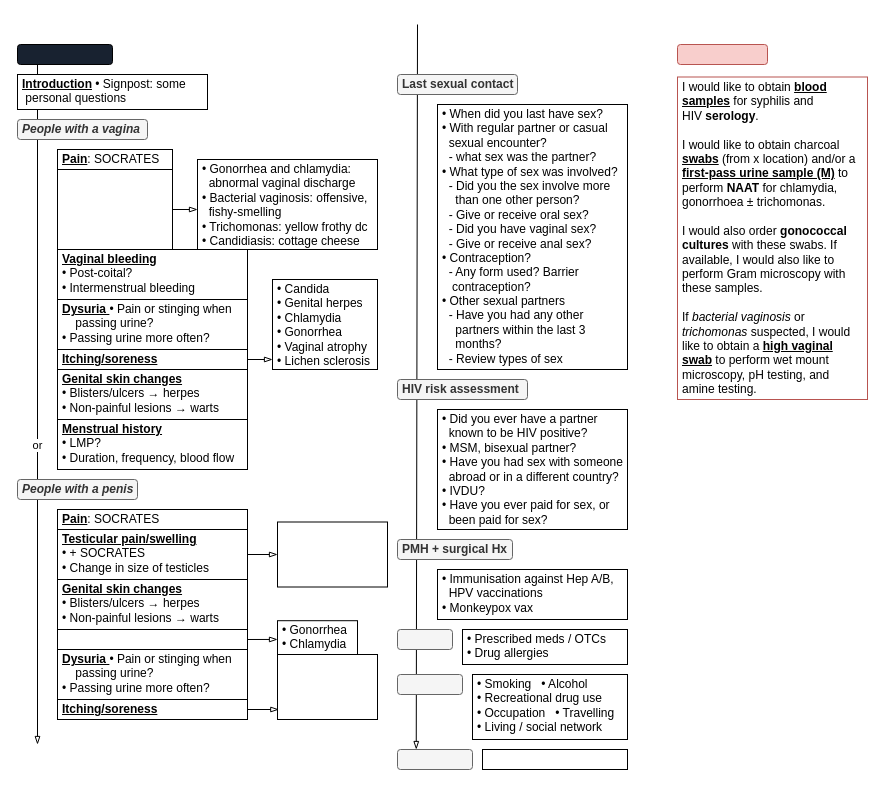
The diagram is 885 pixels wide and 787 high, and some of its shapes have lost their labels. The shapes that lost their labels are listed below. From the top down, each one's box as (x1, y1, x2, y2) in pixels, then its label:
(16, 44, 112, 64): Sexual history
(676, 44, 768, 64): Investigations
(56, 168, 172, 250): Vaginal discharge • Volume • Colour • Consistency • Smell
(276, 521, 388, 587): → suggests epididymo-orchitis • Chlamydia • Gonorrhea
(56, 628, 248, 650): Urethral discharge
(396, 628, 452, 650): Drug Hx
(276, 654, 378, 720): • Candida • Genital herpes • Chlamydia • Gonorrhea
(396, 674, 462, 694): Social Hx
(396, 748, 472, 770): Conclusion
(482, 748, 628, 770): • ICE!!!
